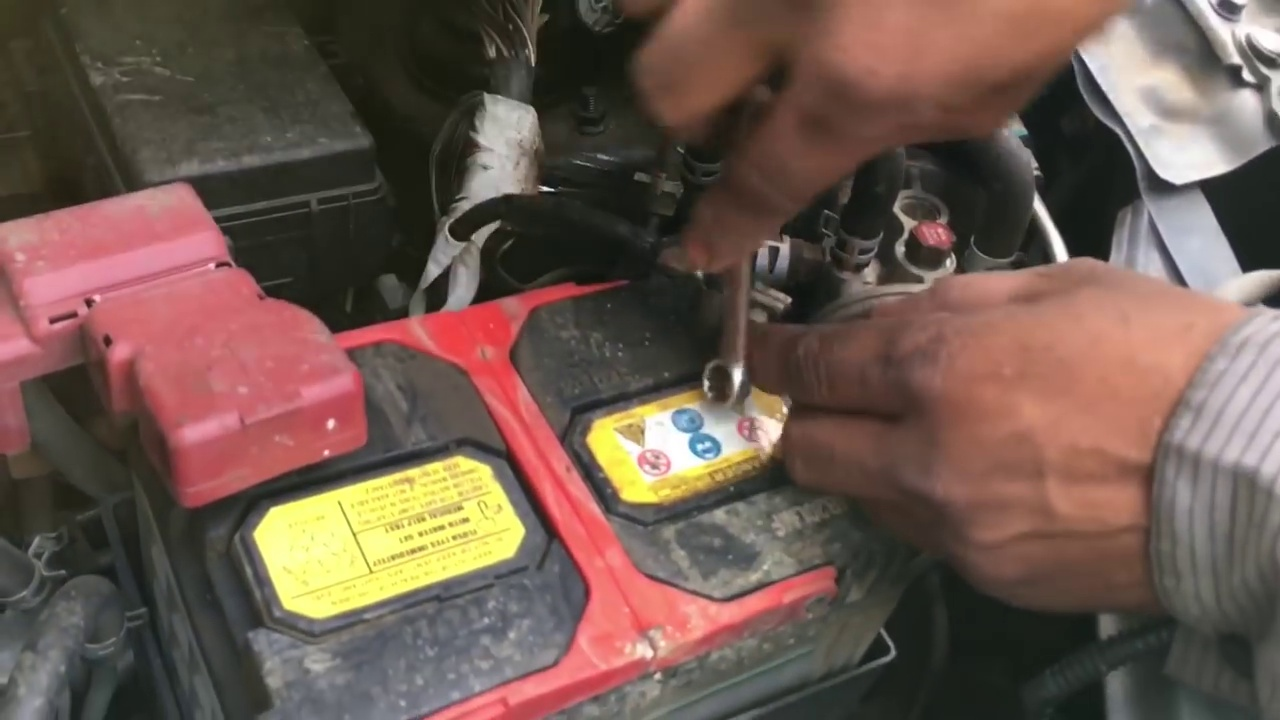battery: (48, 236, 890, 711)
pos_connected: (4, 213, 391, 508)
